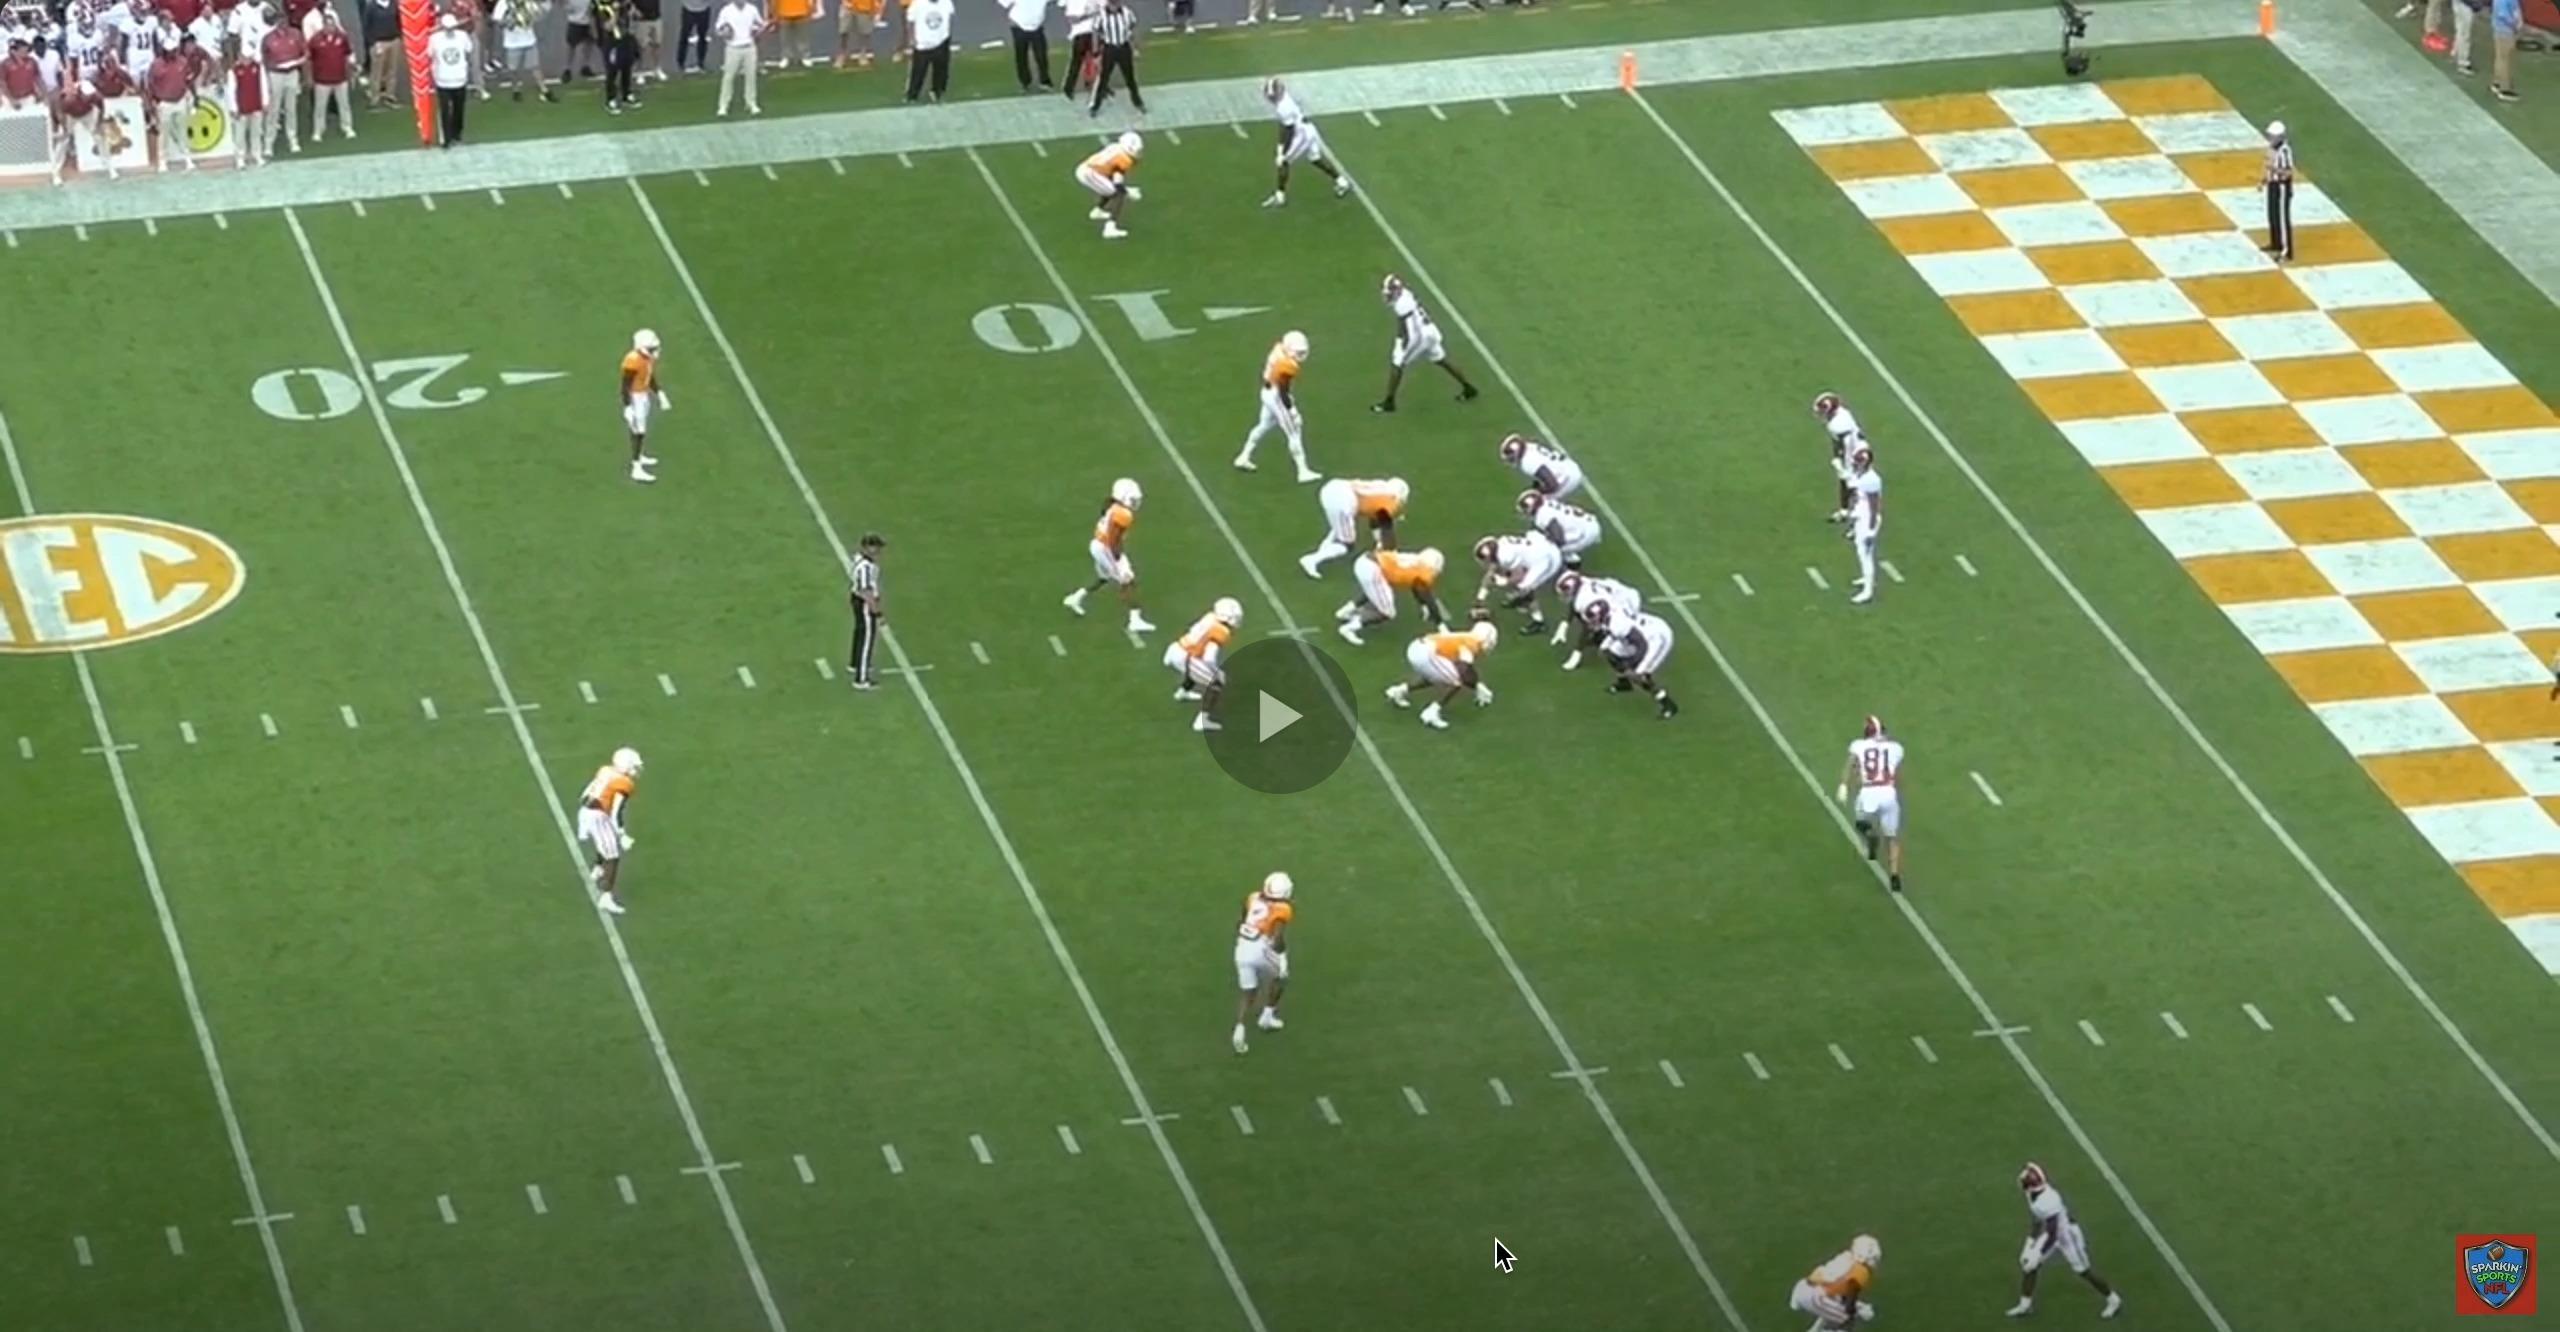player: (2000, 1164, 2132, 1331), (1062, 472, 1160, 642), (1382, 269, 1493, 417), (1842, 714, 1918, 908), (1235, 871, 1311, 1061), (1255, 73, 1360, 210), (1242, 324, 1331, 484), (574, 743, 652, 921), (1288, 469, 1410, 579), (1379, 628, 1499, 738), (1334, 545, 1454, 650), (1169, 594, 1251, 742), (597, 316, 665, 491), (1592, 605, 1689, 726), (1834, 440, 1896, 610), (1474, 538, 1574, 643), (1559, 564, 1651, 672), (1790, 1229, 1887, 1331), (1517, 493, 1610, 583), (1084, 126, 1155, 242), (1803, 391, 1857, 540), (1501, 430, 1593, 512)
ref: (830, 532, 891, 701), (1088, 0, 1158, 122), (2259, 115, 2308, 265)
